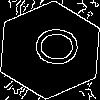O: (25, 25, 79, 68)
